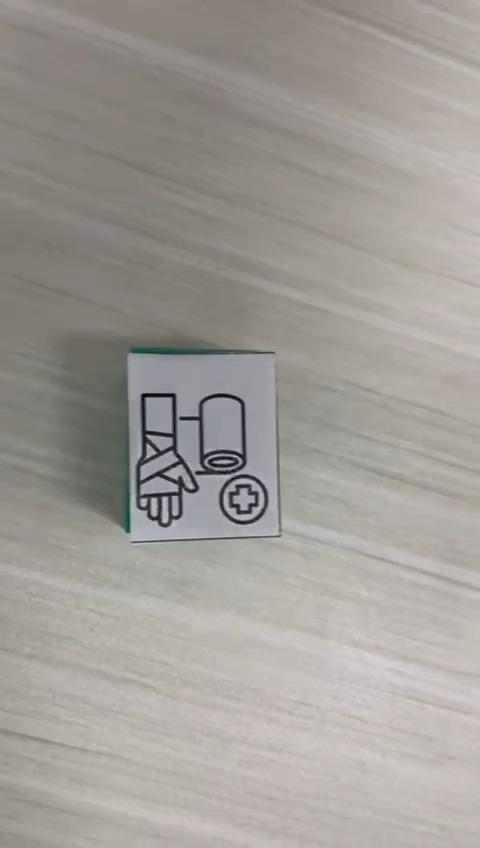Bandages: (124, 347, 281, 544)
